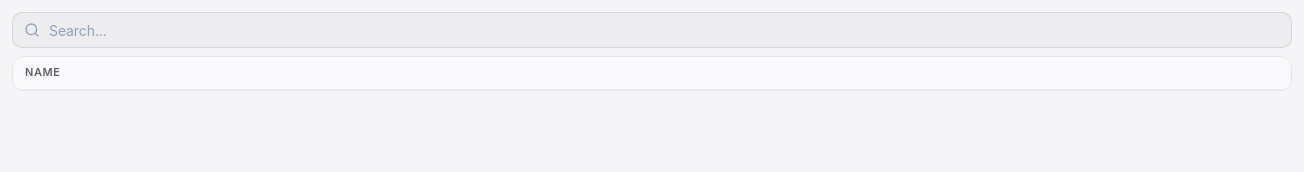
DataTable › applies a custom filter function
Type "2" into the field with placeholder "Search..." at (652, 30), box [12,12,1292,48]
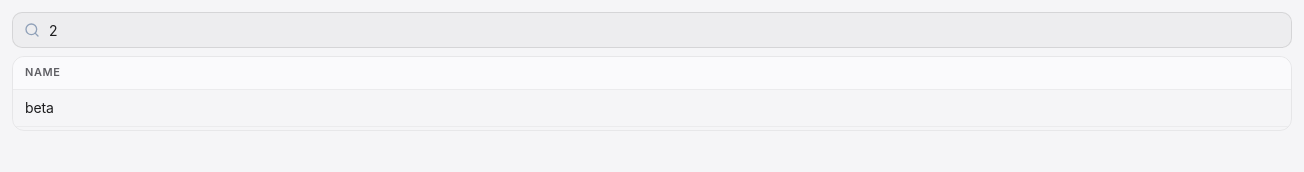
Check: the text "beta" is shown, box [13,90,1291,127]
